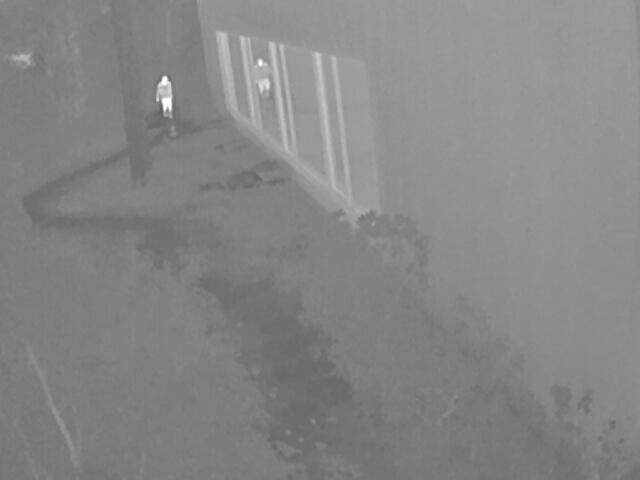person: (252, 56, 272, 96), (154, 75, 172, 119)
